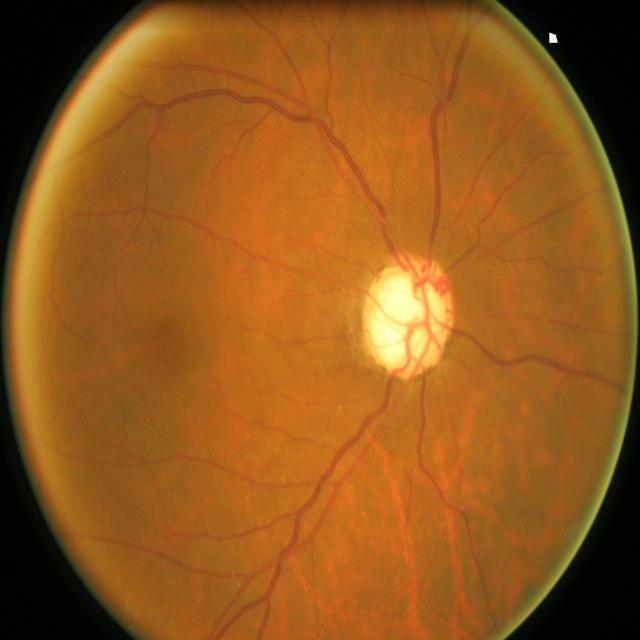OC: (370, 277, 438, 366)
OD: (364, 255, 457, 373)
